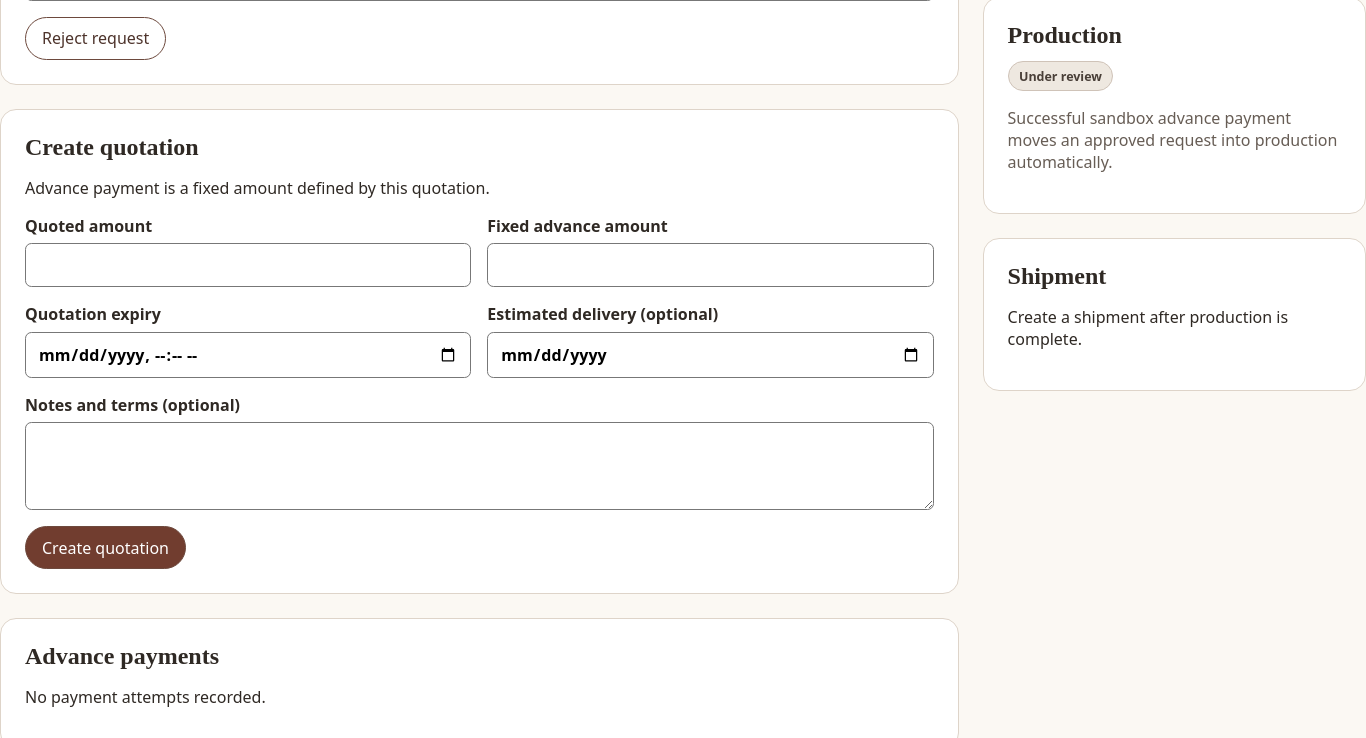
Test case: admin custom artwork states and validation › validates quotation amount boundaries and future expiry
(page scrolled)
Submit the form named "Create quotation", box [25, 215, 934, 569]
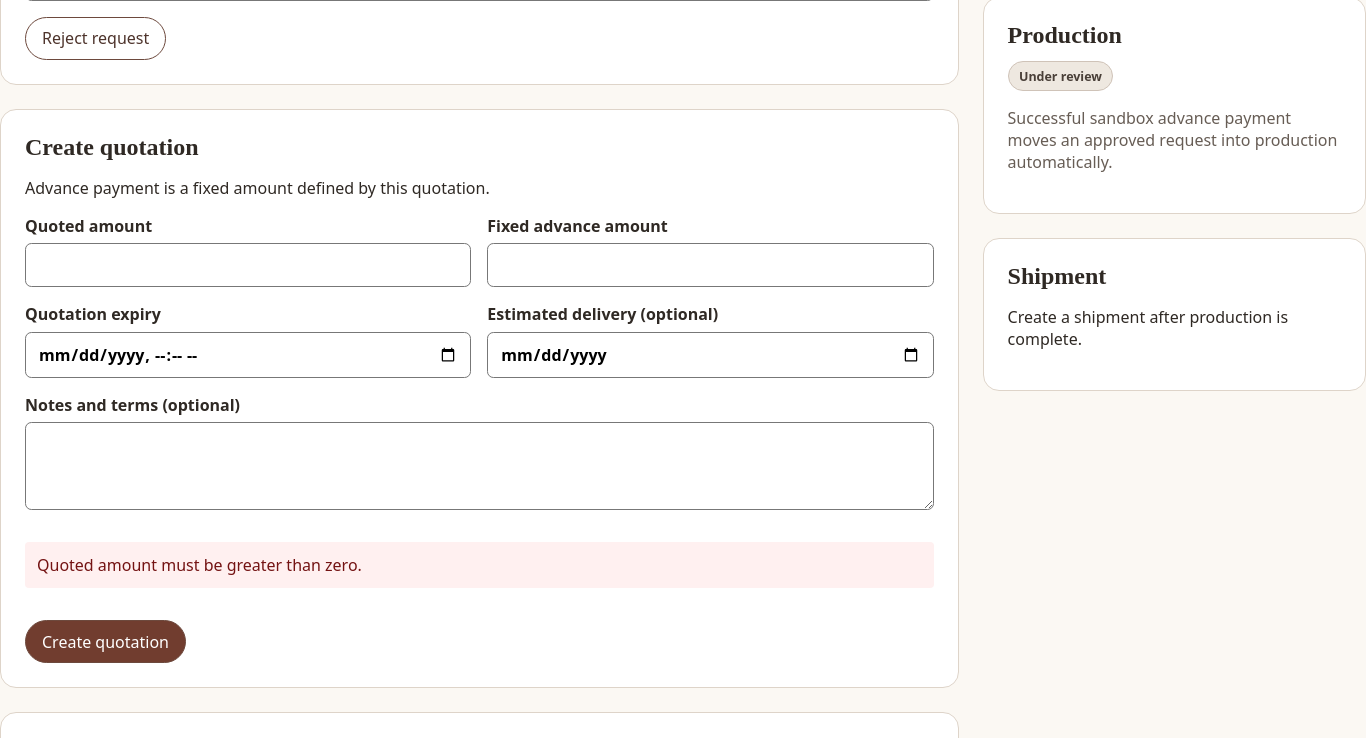
Expected: the text "Quoted amount must be greater than zero." is shown, [25, 542, 934, 588]
Type "100" into the number field labelled "Quoted amount" at (248, 265), box [25, 243, 471, 287]
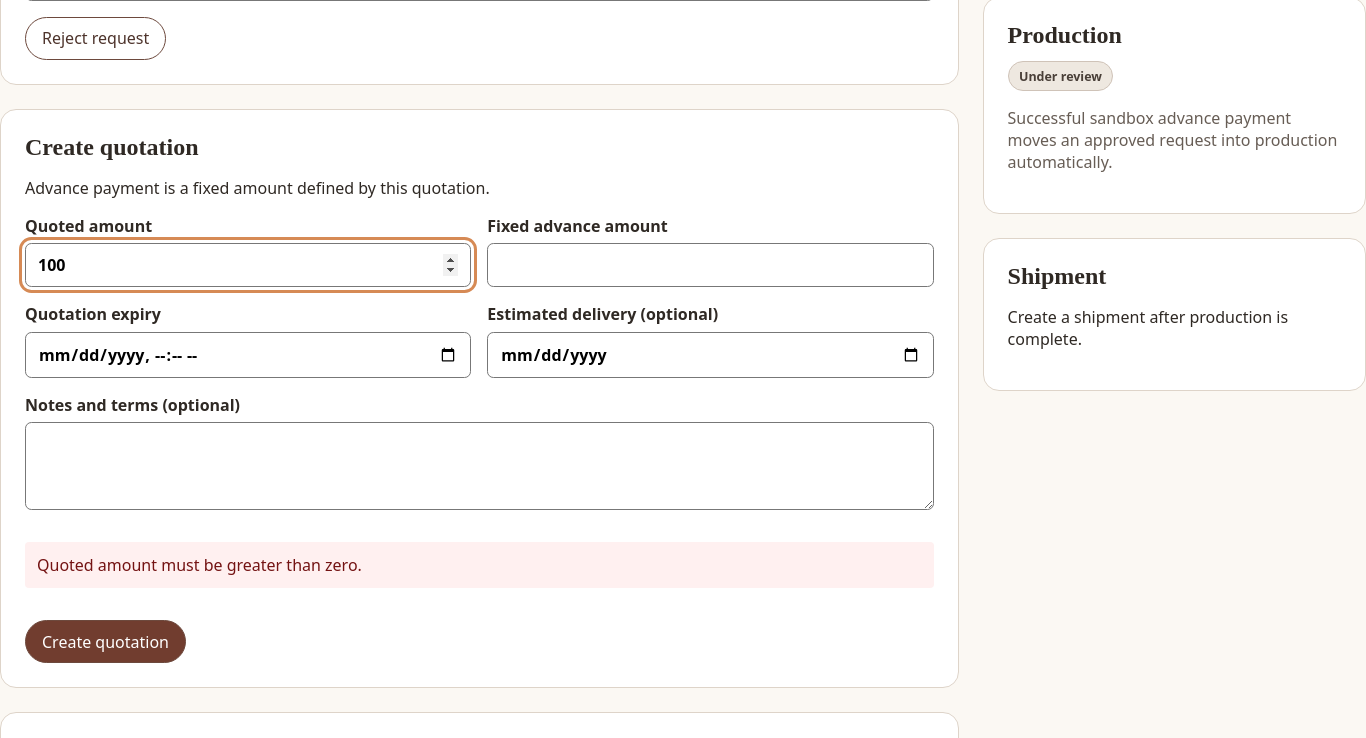
Type "200" into the number field labelled "Fixed advance amount" at (710, 265), box [487, 243, 934, 287]
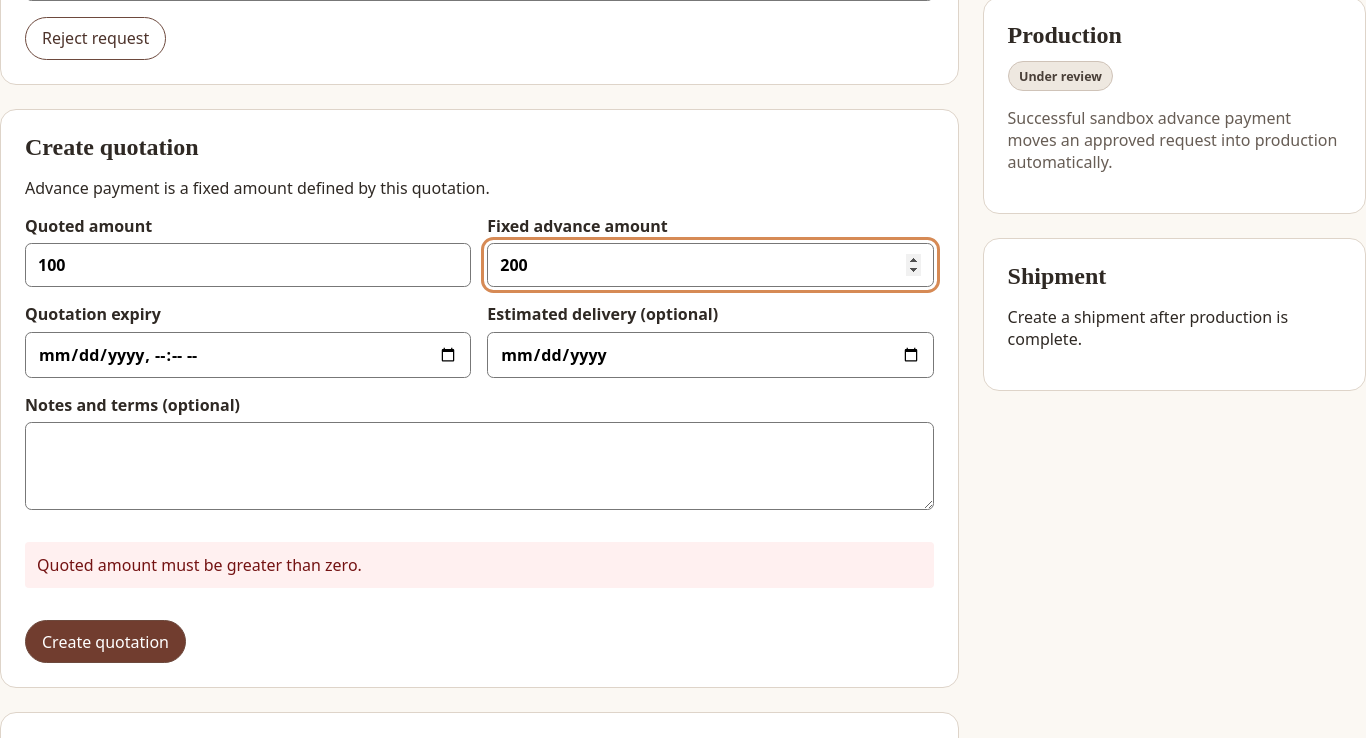
Submit the form named "Create quotation", box [25, 215, 934, 663]
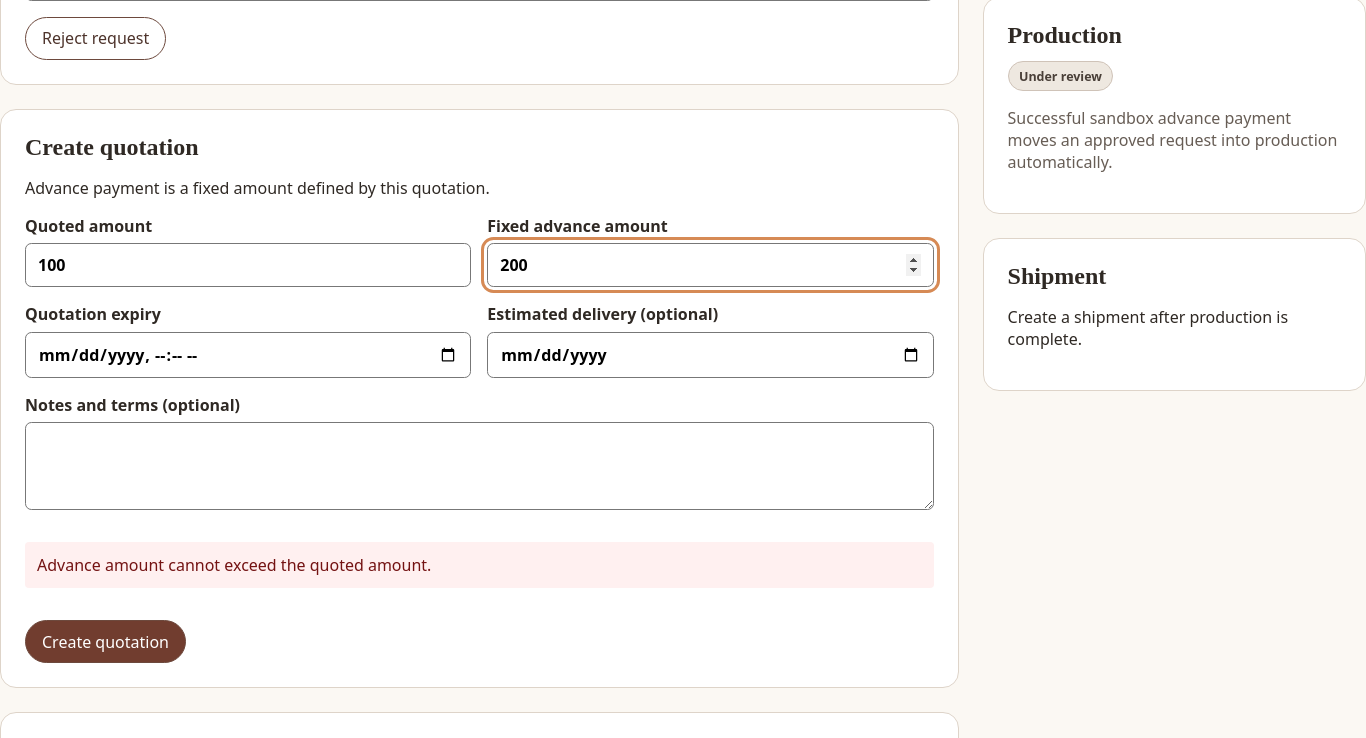
Expected: the text "Advance amount cannot exceed the quoted amount." is shown, [25, 542, 934, 588]
Replace the text in the number field labelled "Fixed advance amount" with "50" at (710, 265), box [487, 243, 934, 287]
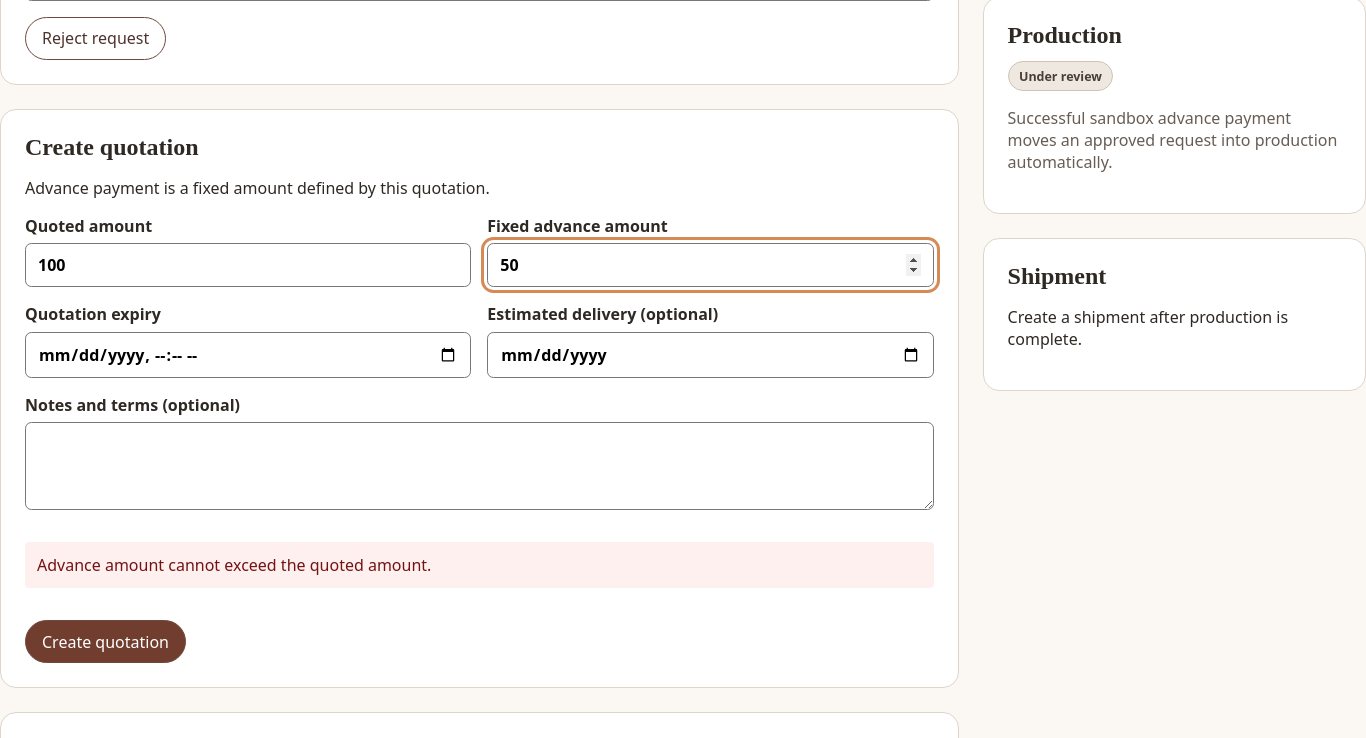
Submit the form named "Create quotation", box [25, 215, 934, 663]
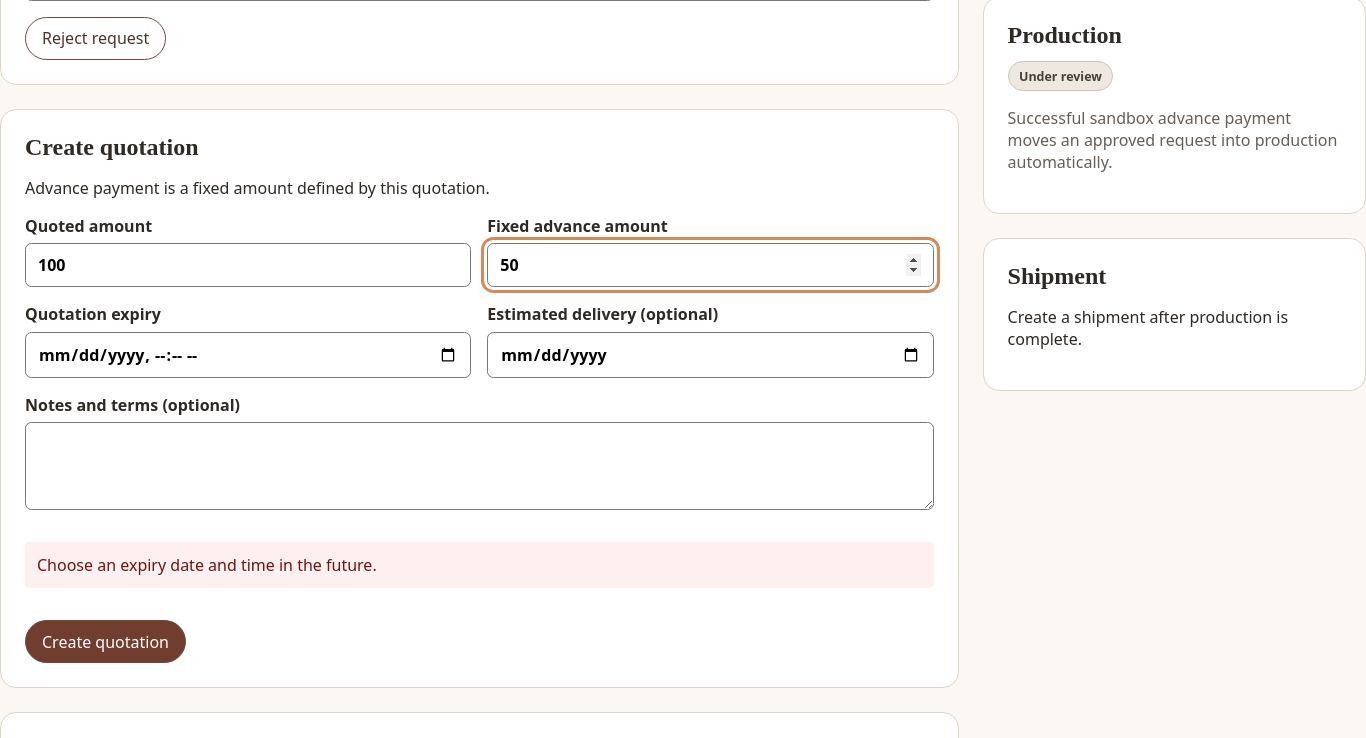
Expected: the text "Choose an expiry date and time in the future." is shown, [25, 542, 934, 588]
